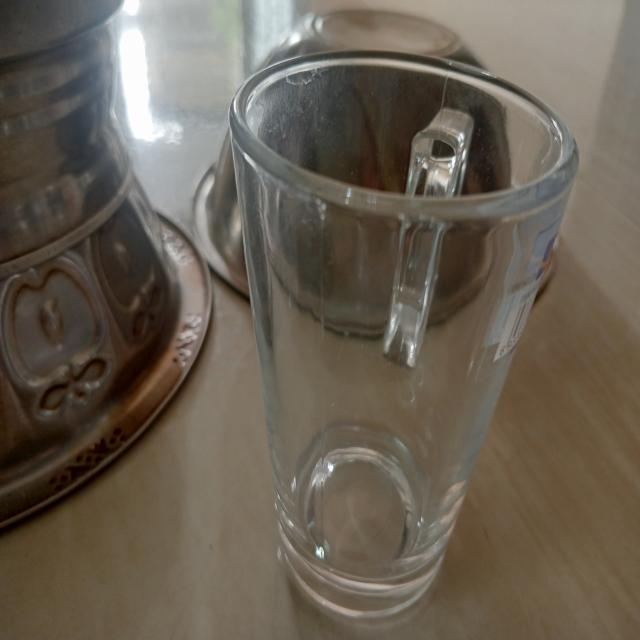glass-VX4N: (228, 44, 590, 628)
